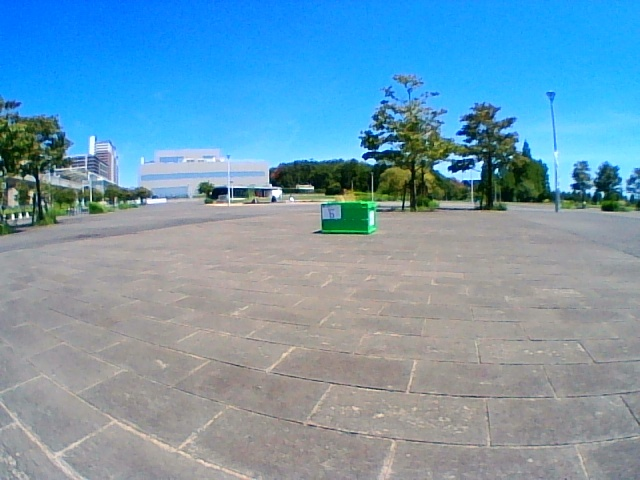green_box: (320, 200, 376, 233)
tag_b: (322, 205, 341, 219)
